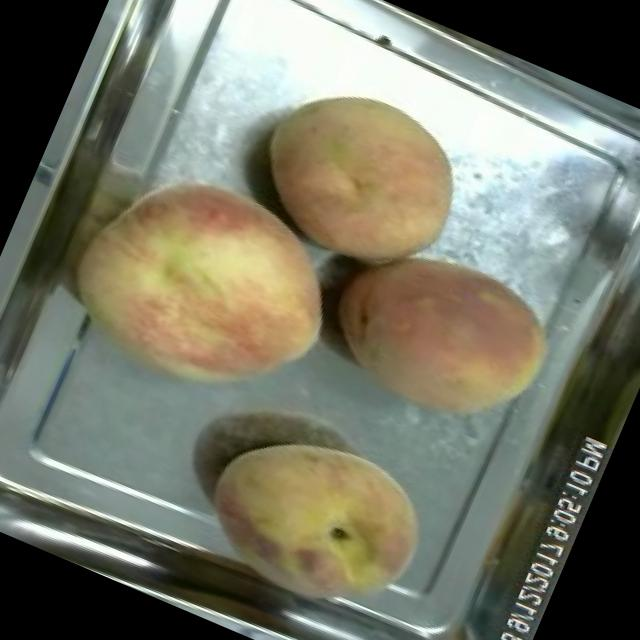Fruit: (42, 132, 370, 437), (173, 393, 454, 640), (304, 212, 580, 458), (230, 56, 490, 302)
